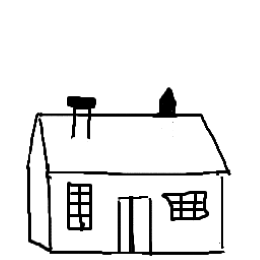bottom_placed_house: (2, 1, 260, 260)
chimney: (61, 86, 102, 141), (151, 82, 183, 128)
closed_window: (162, 187, 216, 228), (63, 179, 97, 236)
door: (110, 187, 160, 259)
roof: (13, 98, 236, 182)
wall: (41, 159, 230, 260)
